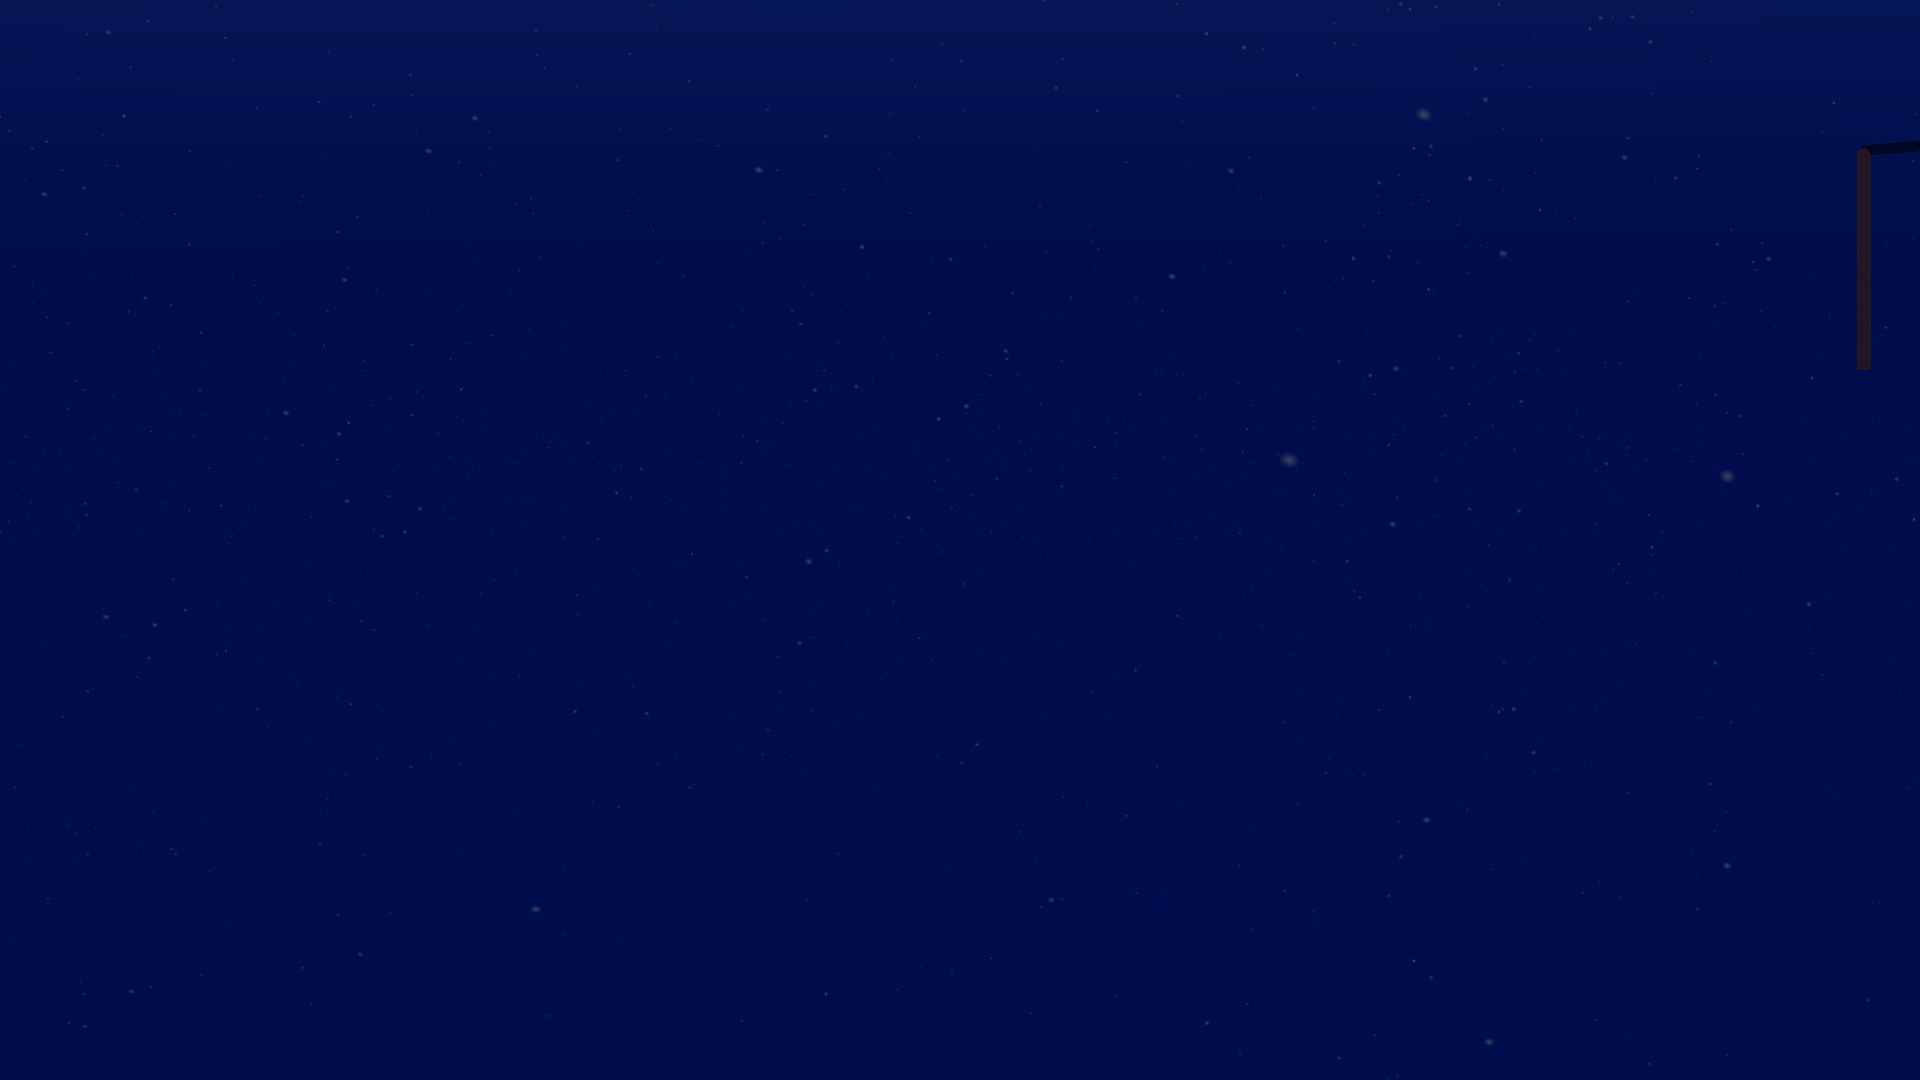Gate: (1853, 136, 1920, 375)
